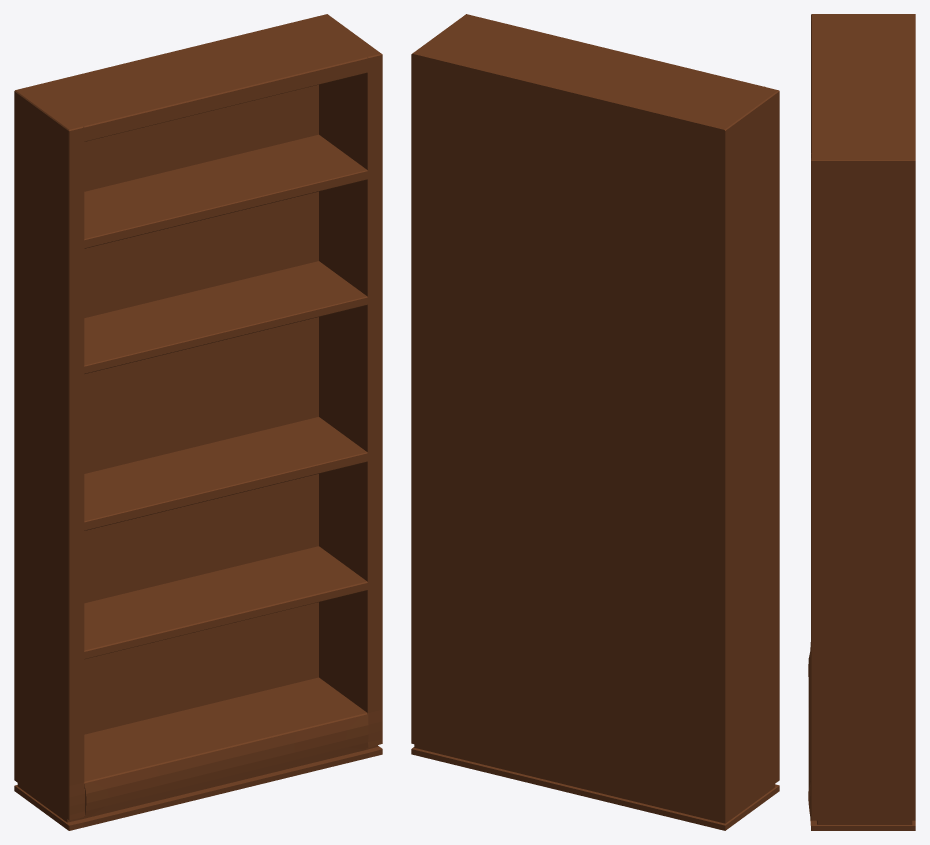
Rendered from shelf.fbx.
The picture shows the model from 3 angles, left to right: view 1: azimuth 30°, elevation 25°; view 2: azimuth 150°, elevation 25°; view 3: azimuth 270°, elevation 25°; orthographic projection. The views are drawn at different scales.
Parts seen in each view (by area): view 1: Cube.006; view 2: Cube.006; view 3: Cube.006.
Part boxes in pixels (box(x1,y1,x2,y2)): Cube.006: box(14, 14, 382, 830); Cube.006: box(411, 14, 779, 830); Cube.006: box(808, 14, 915, 830).
Size of the model in its own units: 97.41 by 208 by 30.1.
